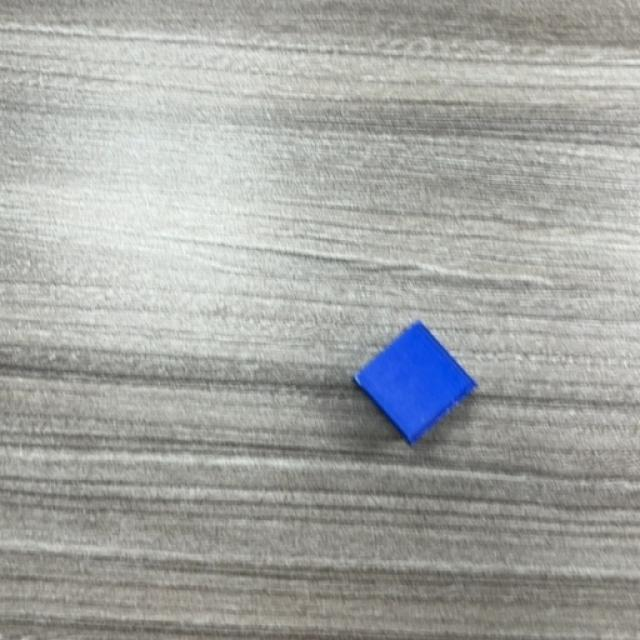Azul: (351, 322, 479, 448)
